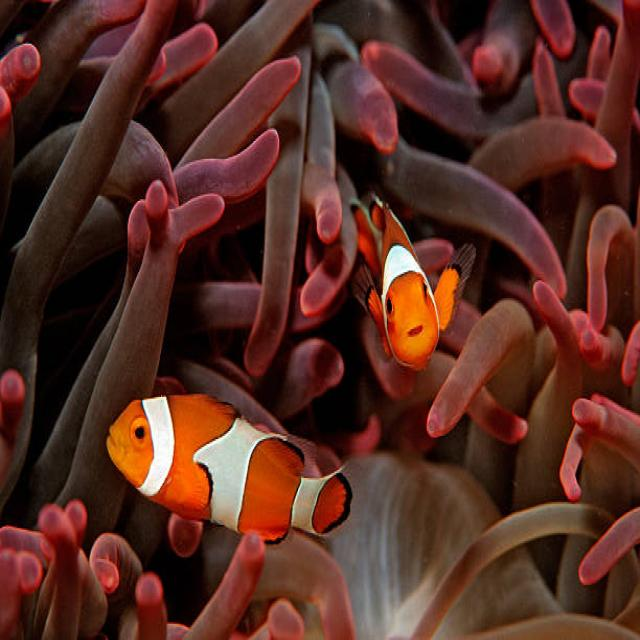ClownFish: (103, 384, 354, 556), (363, 182, 477, 370)
